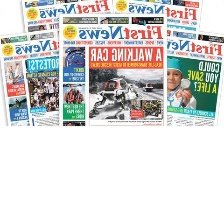news_paper: (56, 12, 168, 132), (0, 28, 71, 132), (155, 24, 224, 130), (18, 0, 114, 50), (107, 0, 205, 35)
